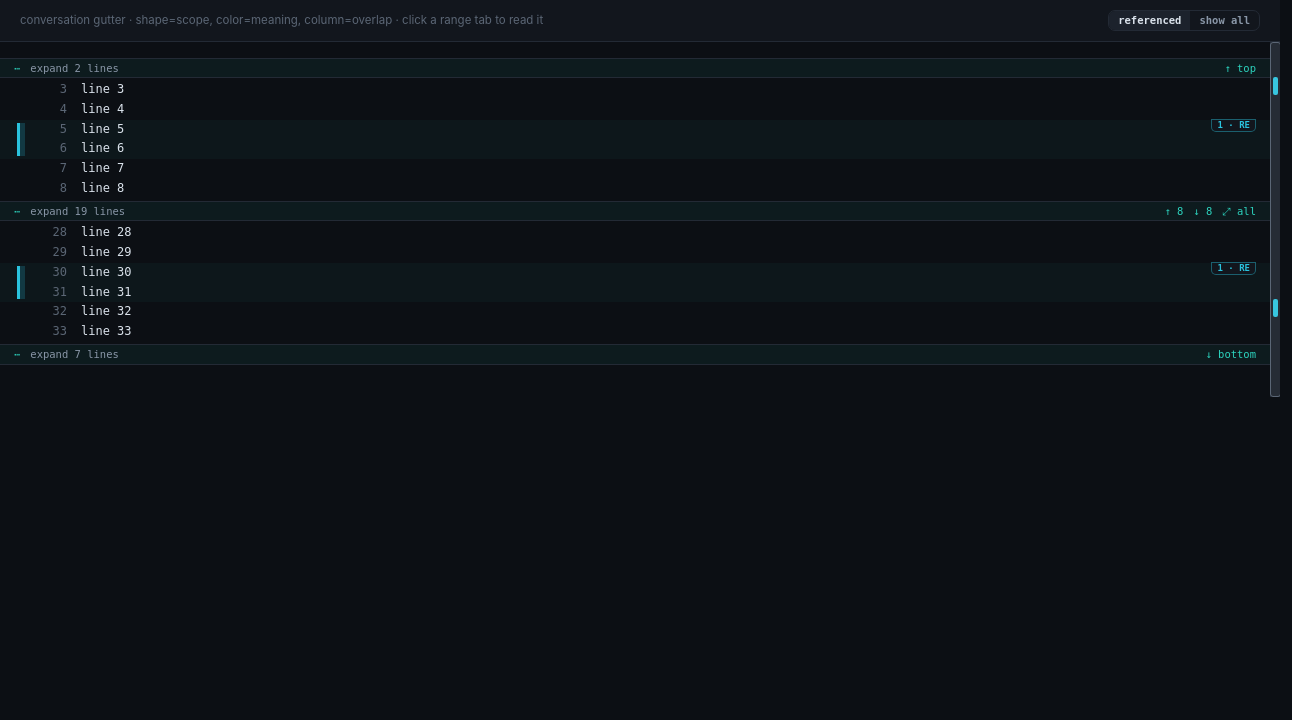
it: CodeLens — piece 11 Phase 3: PR-style collapse › ⤢all on the middle gap reveals it entirely in one click — no fold row left for it
Expected: the number of elements with test id "fold-row" is 3, [0,58,1270,78]; [0,201,1270,221]; [0,344,1270,365]
Click the button with test id "fold-expand-all" at {"x": 1239, "y": 211}, box [1222,206,1256,216]
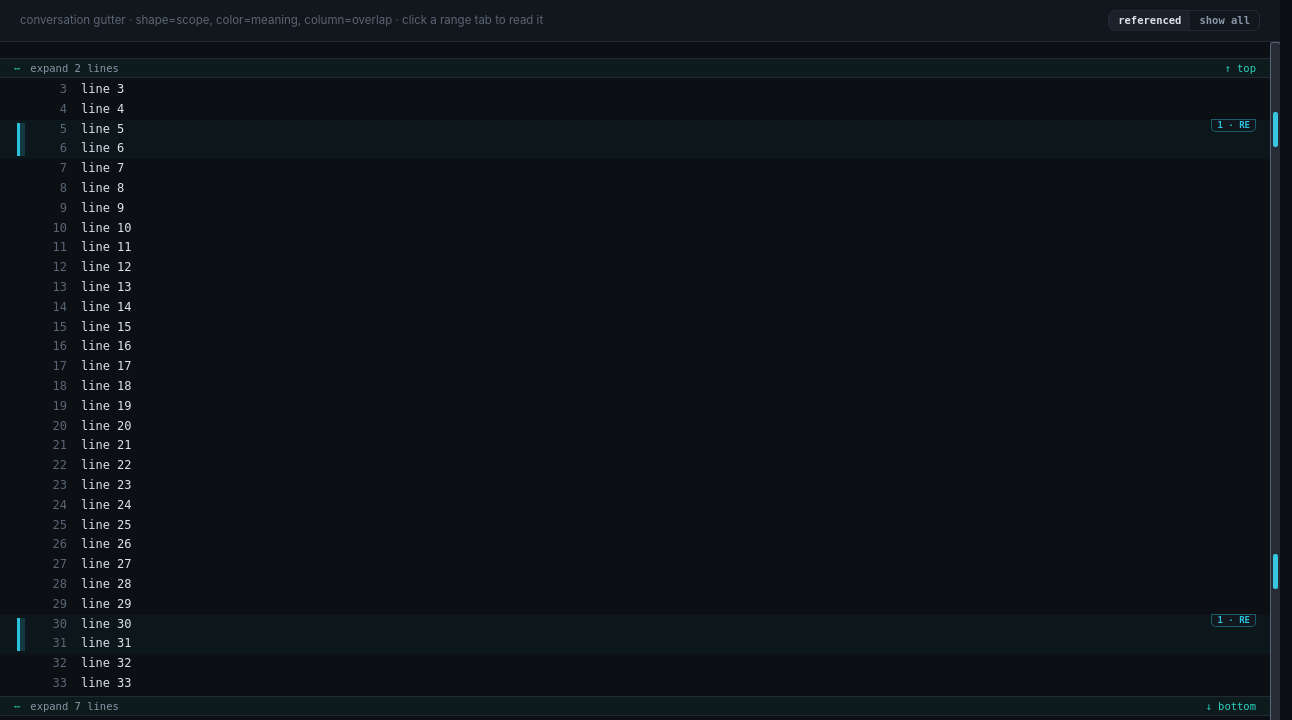
Now the number of elements with test id "fold-row" is 2, box [0,58,1270,78]; [0,696,1270,716]
